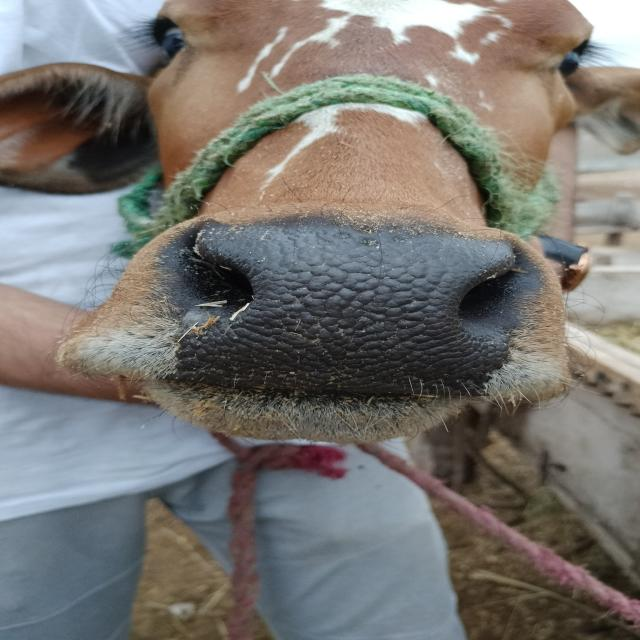muzzles: (175, 213, 546, 407)
